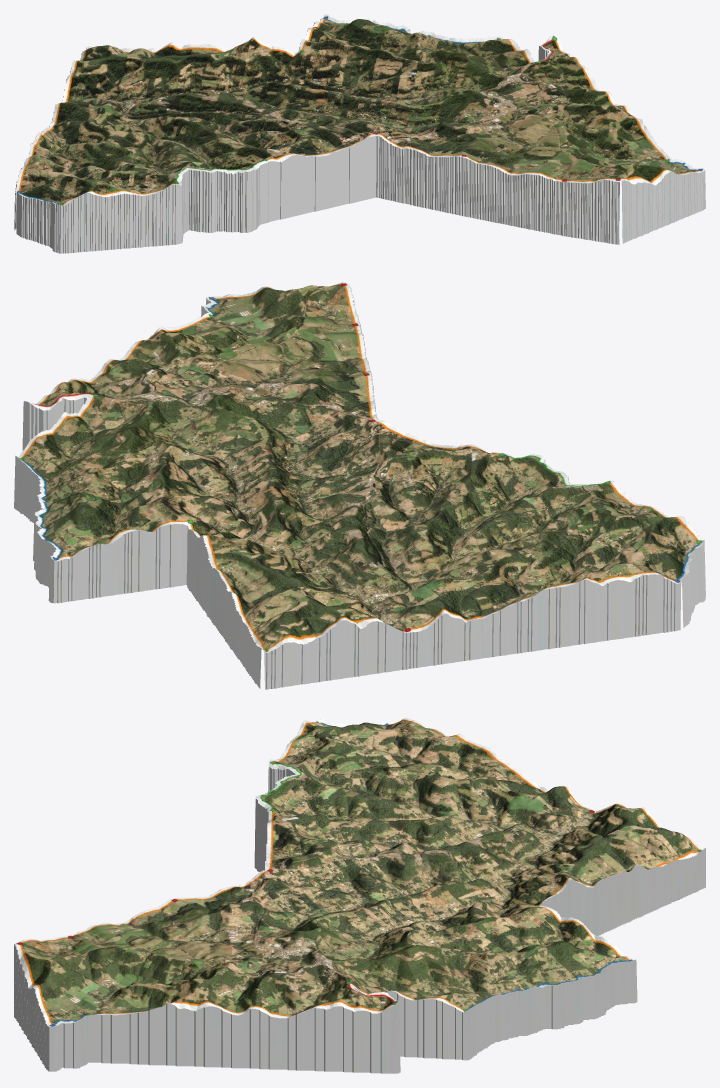
The picture shows the model from 3 angles, top to bottom: view 1: azimuth 30°, elevation 25°; view 2: azimuth 150°, elevation 25°; view 3: azimuth 270°, elevation 25°; orthographic projection. The views are drawn at different scales.
Size of the model in its own units: 1 by 0.112 by 0.9562.
Materials: 1 (1 with a texture image).
